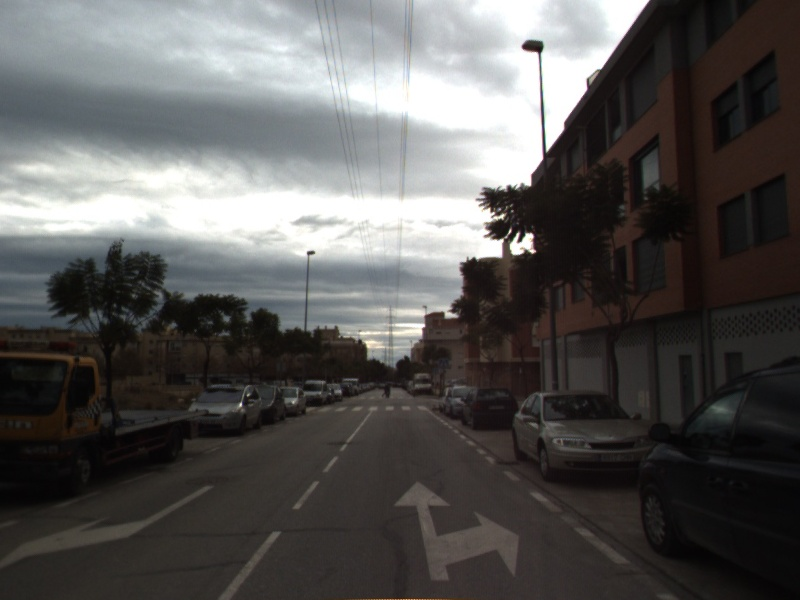STRAIGHT_RIGHT: (392, 479, 522, 583)
